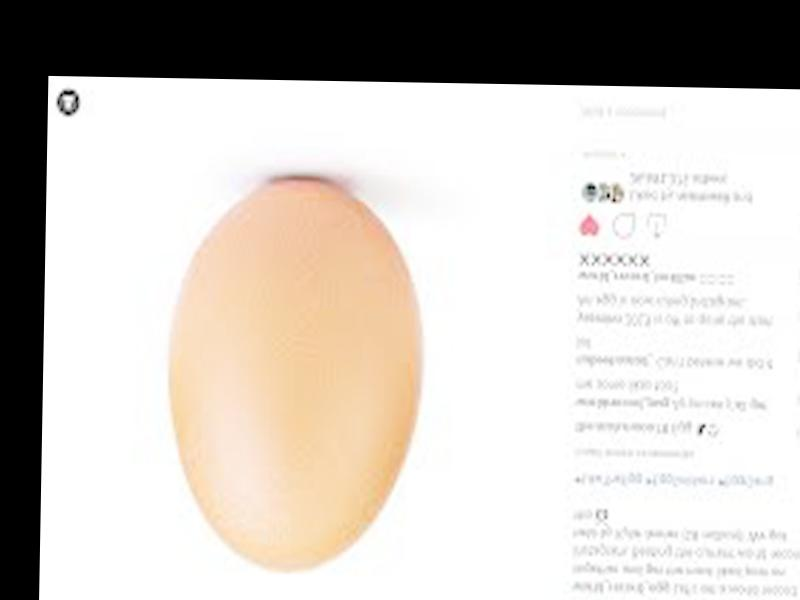Eggs: (165, 180, 425, 572)
